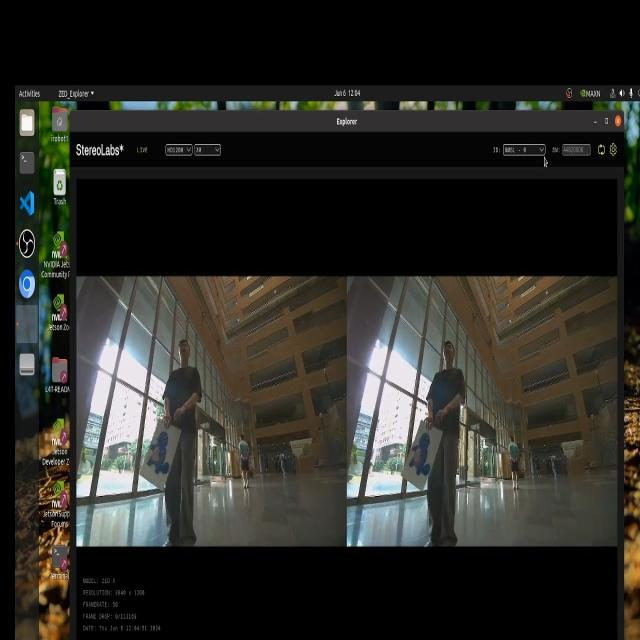blue: (405, 424, 435, 483), (148, 418, 166, 476)
